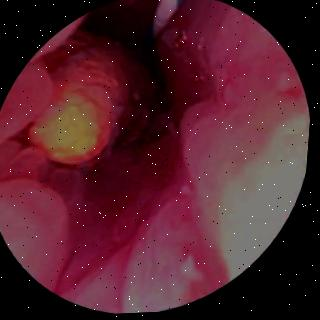stone: (28, 34, 166, 164)
tissue: (0, 2, 306, 311)
